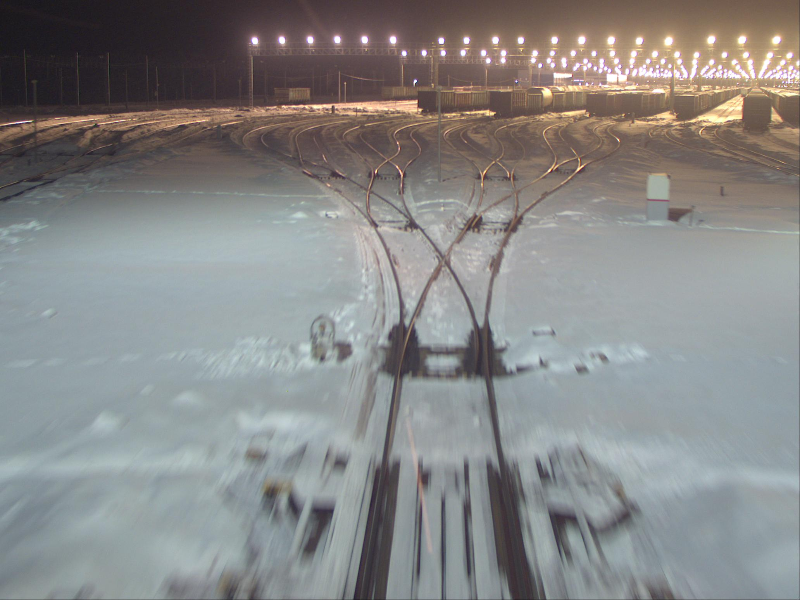left: (356, 187, 419, 228), (464, 189, 524, 228), (370, 155, 407, 180), (547, 158, 586, 172)
right: (392, 255, 492, 375), (478, 153, 515, 181)
